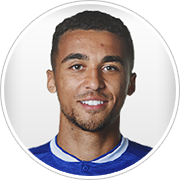smile: (77, 97, 110, 110)
